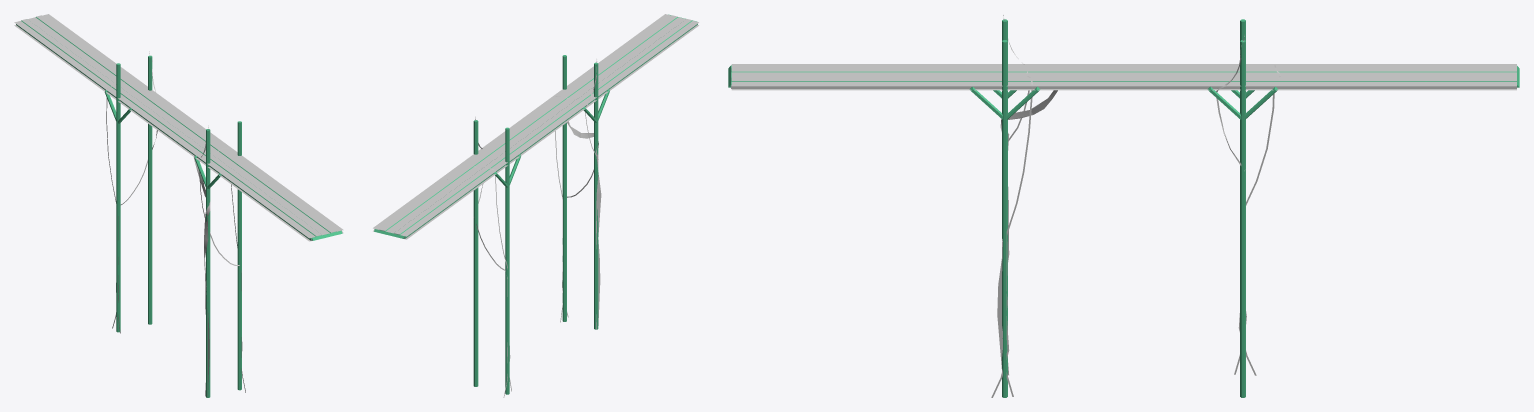
The model's file is jri_bridge_trail_wide.dae.
The picture shows the model from 3 angles, left to right: view 1: azimuth 30°, elevation 25°; view 2: azimuth 150°, elevation 25°; view 3: azimuth 270°, elevation 25°; orthographic projection. The views are drawn at different scales.
Visible parts, largest first — view 1: ind_bld_a360, Colmesh-1, ind_bld_a40, ind_bld_a1300; view 2: ind_bld_a360, Colmesh-1, ind_bld_a40, ind_bld_a1300; view 3: ind_bld_a360, ind_bld_a40, Colmesh-1, ind_bld_a1300.
Boxes of the visible parts, x1=… form: ind_bld_a360: x1=16, y1=14, x2=342, y2=240; Colmesh-1: x1=16, y1=17, x2=342, y2=397; ind_bld_a40: x1=14, y1=14, x2=343, y2=241; ind_bld_a1300: x1=43, y1=16, x2=336, y2=397; ind_bld_a360: x1=374, y1=15, x2=696, y2=238; Colmesh-1: x1=374, y1=14, x2=697, y2=394; ind_bld_a40: x1=373, y1=14, x2=698, y2=239; ind_bld_a1300: x1=379, y1=17, x2=669, y2=397; ind_bld_a360: x1=731, y1=66, x2=1516, y2=119; ind_bld_a40: x1=731, y1=64, x2=1516, y2=90; Colmesh-1: x1=728, y1=19, x2=1519, y2=397; ind_bld_a1300: x1=731, y1=15, x2=1516, y2=397.
Bounding box in the file's own units: 4.89 × 66.43 × 33.61.
